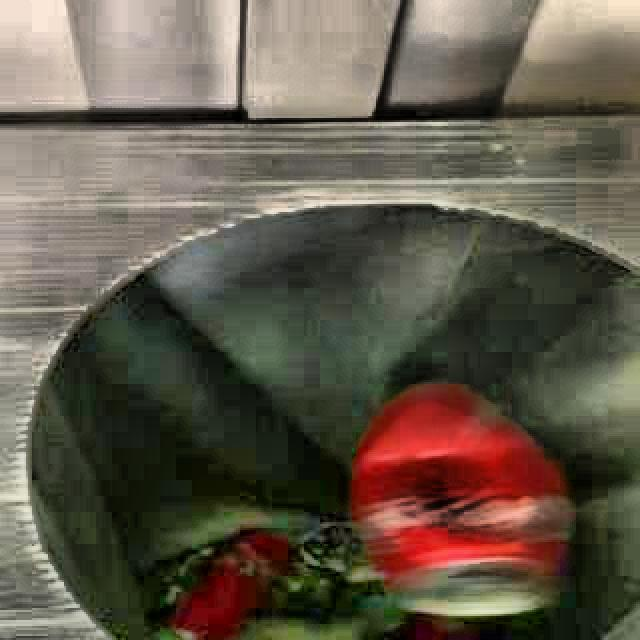metal: (355, 388, 571, 619)
